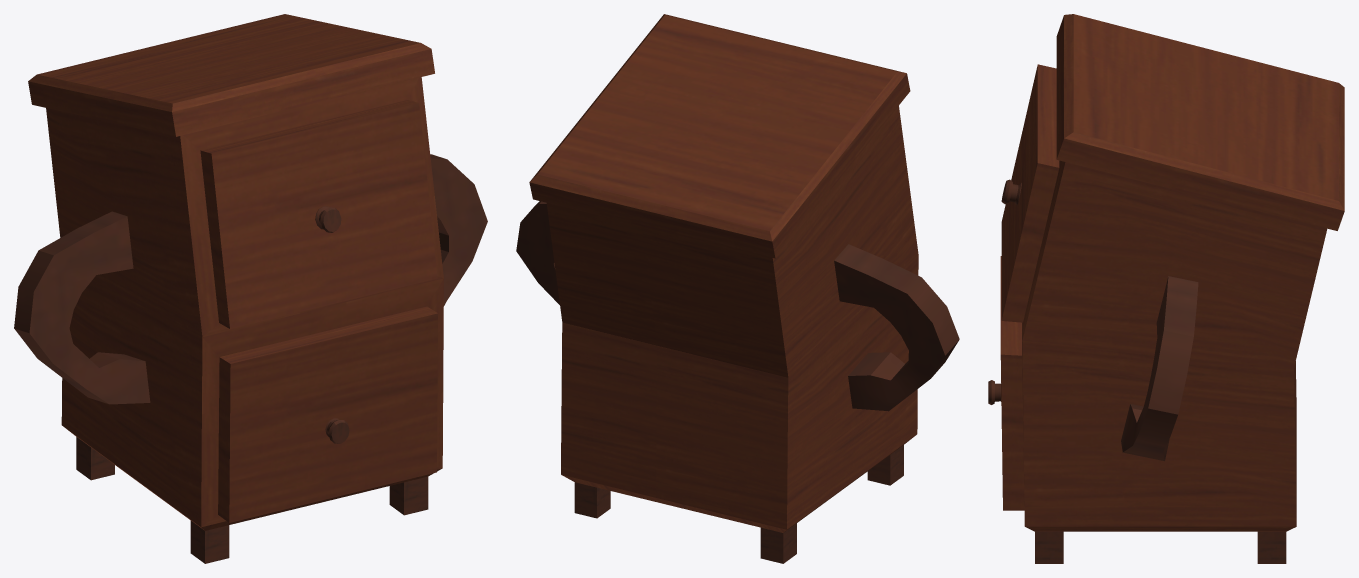
The model's file is Cabinet.fbx.
3 views of the same model, side by side, from view 1: azimuth 30°, elevation 25°; view 2: azimuth 150°, elevation 25°; view 3: azimuth 270°, elevation 25° (orthographic). The views are drawn at different scales.
Parts seen in each view (by area): view 1: Cabinet; view 2: Cabinet; view 3: Cabinet.
Boxes of the visible parts, box(x1,y1,x2,y2) form: Cabinet: box(14, 14, 487, 563); Cabinet: box(516, 14, 959, 563); Cabinet: box(988, 14, 1344, 563).
Size of the model in its own units: 380 by 355 by 262.
